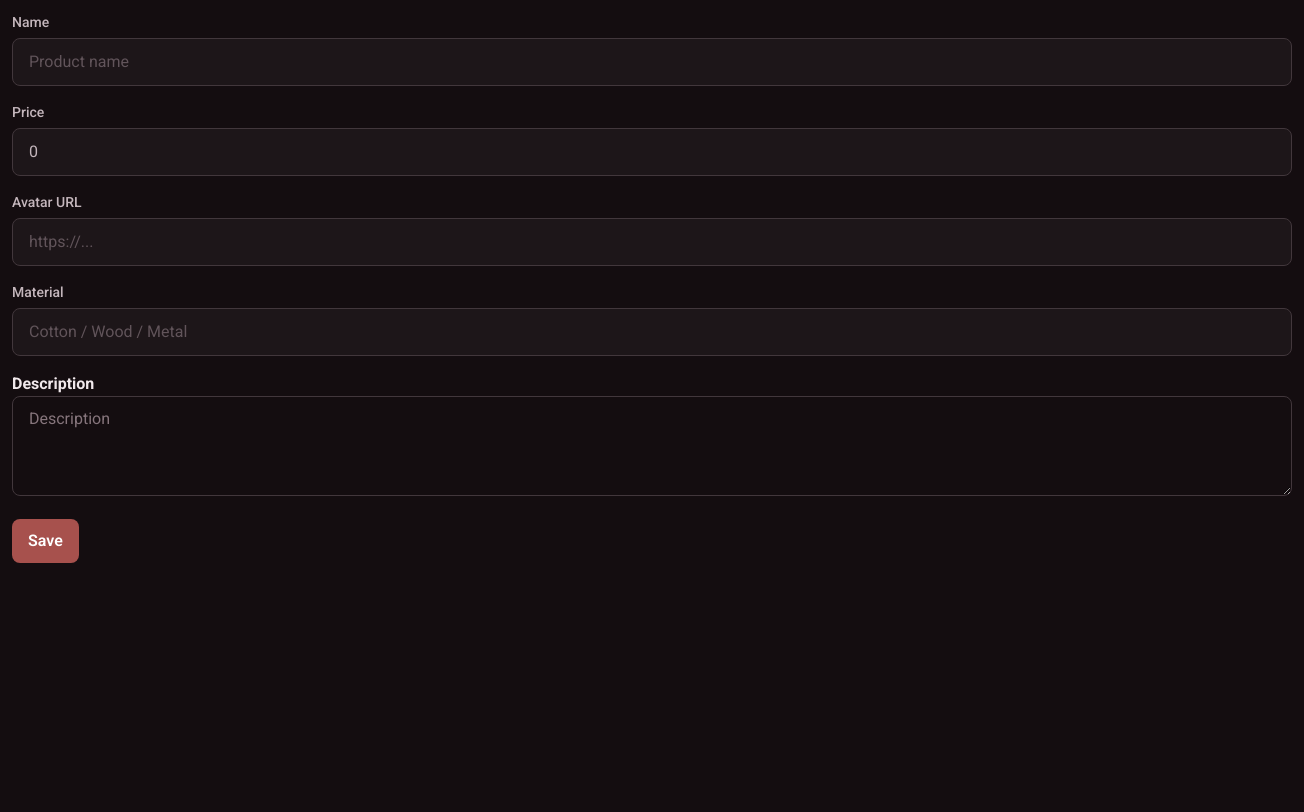
Scenario: ProductForm › shows avatar URL format validation error for invalid URL
The image size is (1304, 812).
Type "Desk" into the field labelled "Name".
click(652, 62); type("Desk")  # box [29,50,1275,74]
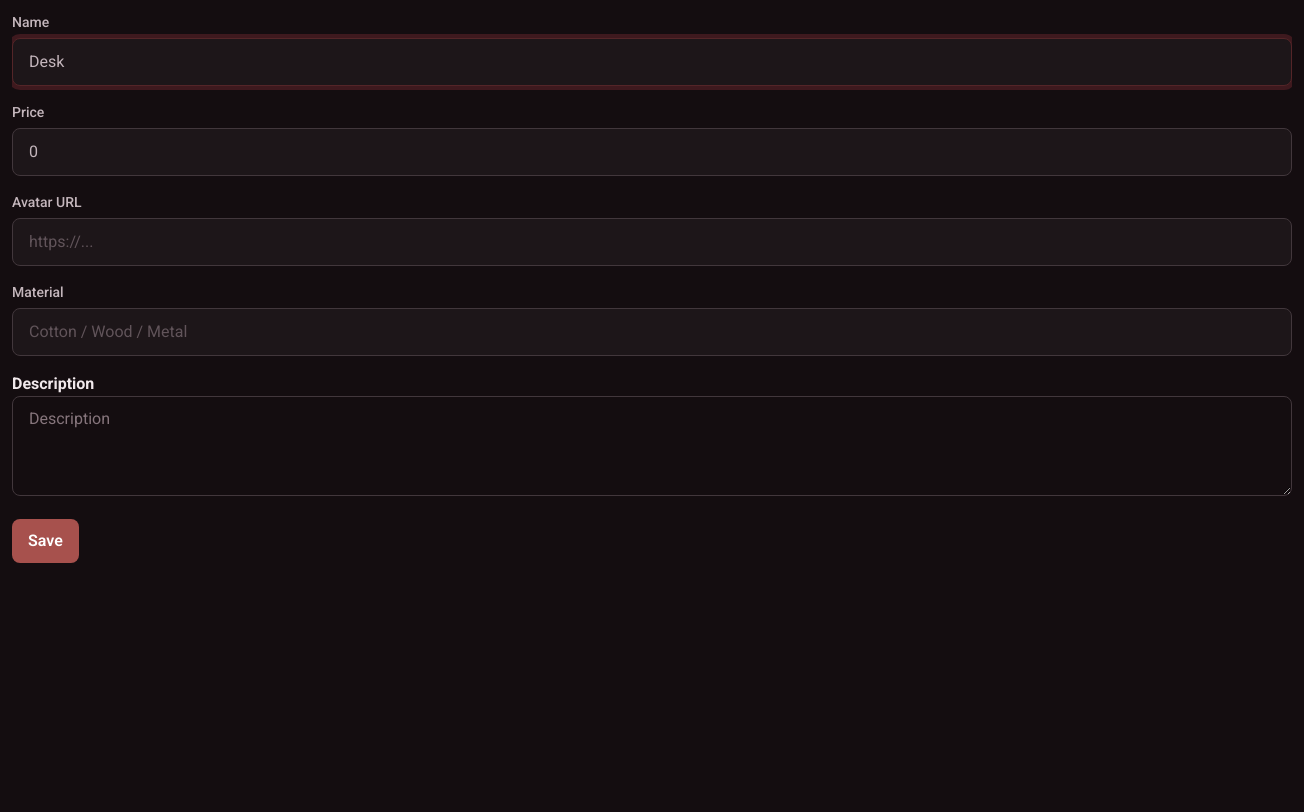
Type "120" into the number field labelled "Price".
click(652, 152); type("120")  # box [29,140,1275,164]
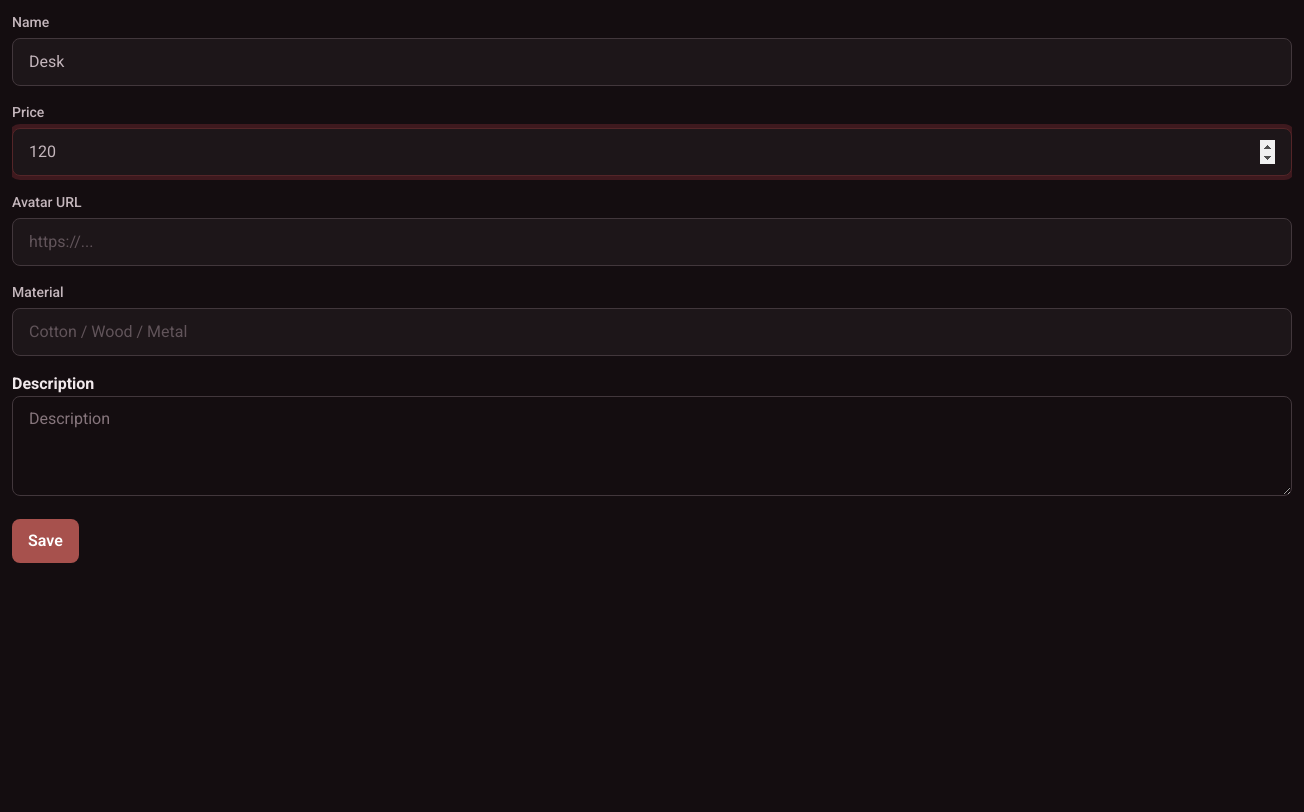
Type "not-a-url" into the field labelled "Avatar URL".
click(652, 242); type("not-a-url")  # box [29,230,1275,254]
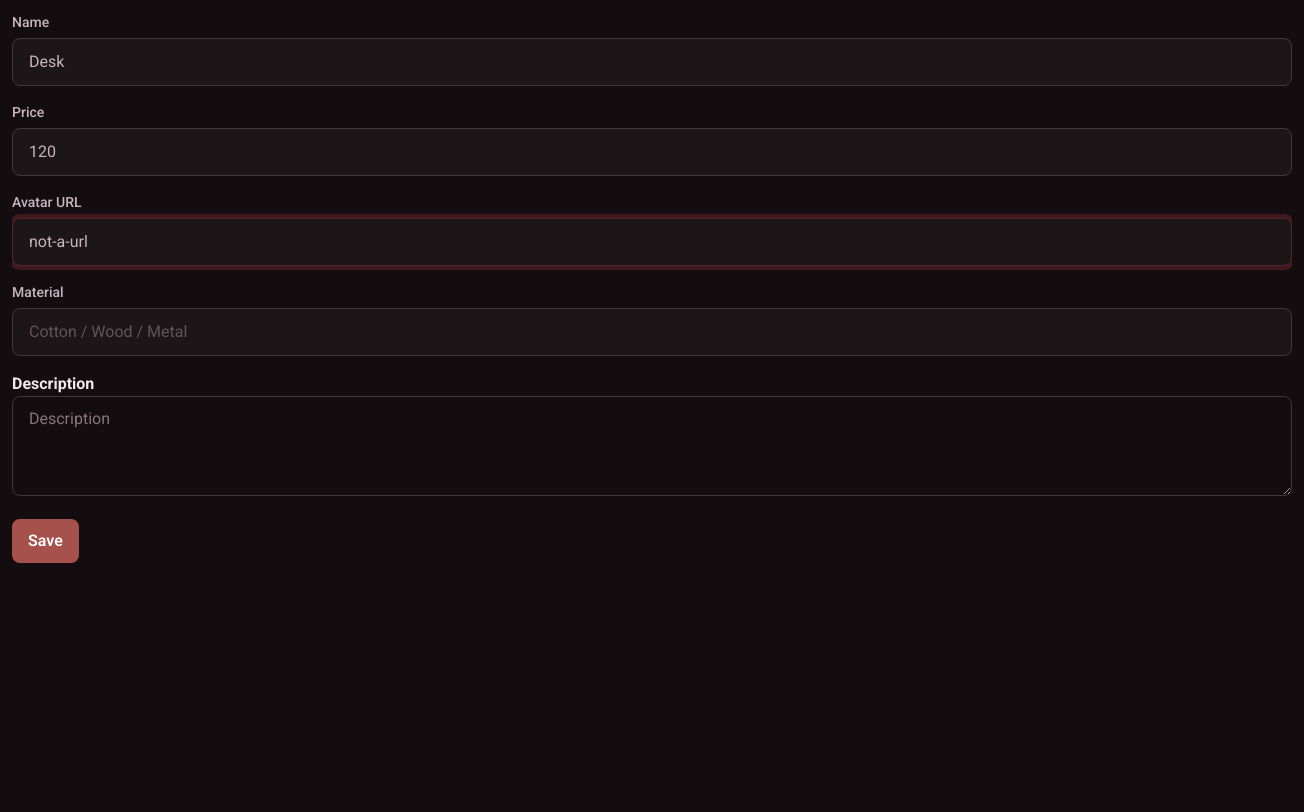
Click the button "Save".
click(45, 541)  # box [12,519,79,563]
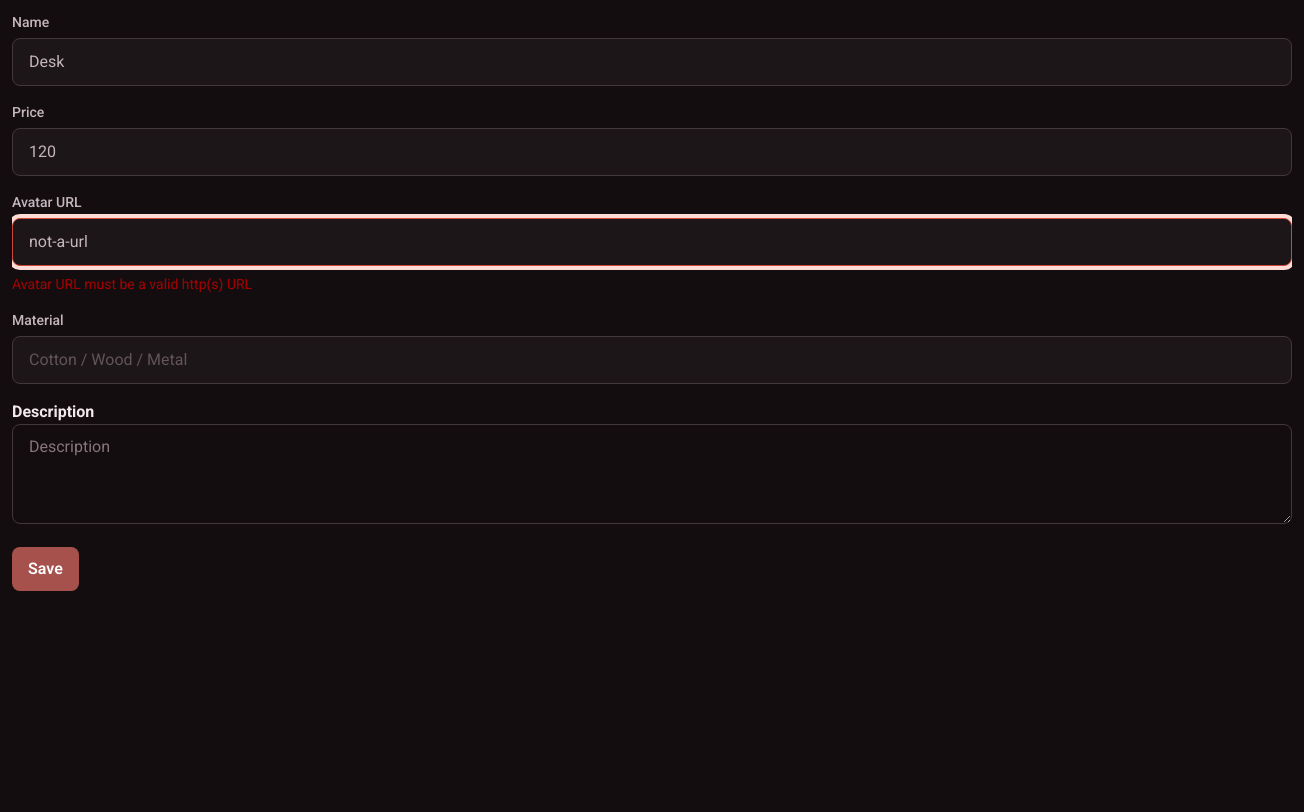
Result: the text "Avatar URL must be a valid http(s) URL" is shown at [12,276,252,292]
